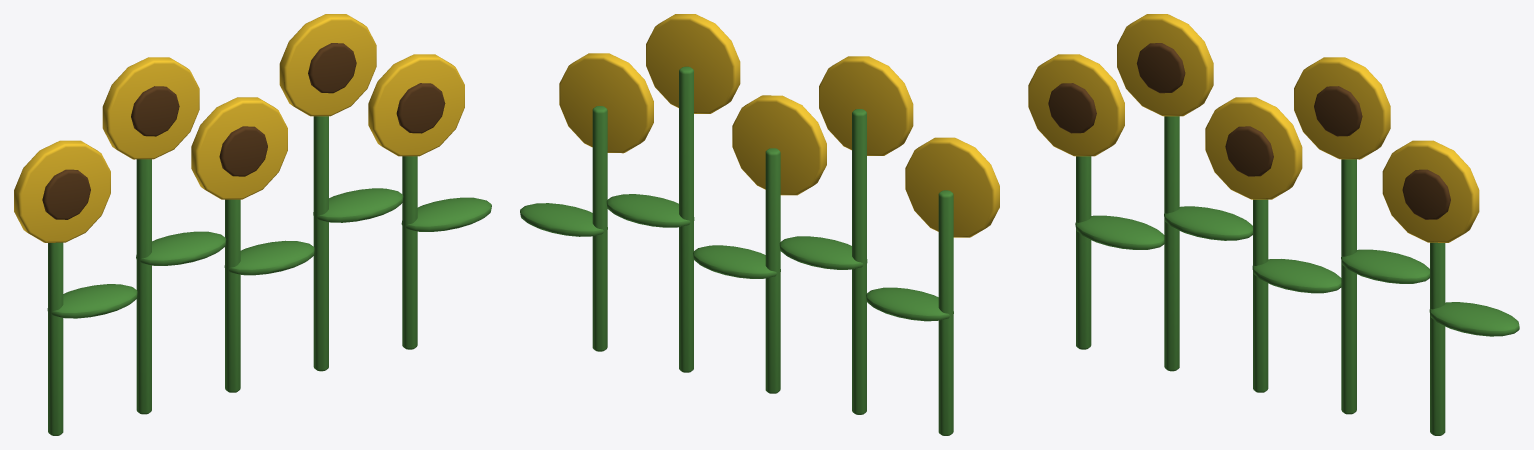
Rendered from veg_girassol.glb.
The picture shows the model from 3 angles, left to right: view 1: azimuth 30°, elevation 25°; view 2: azimuth 150°, elevation 25°; view 3: azimuth 330°, elevation 25°; orthographic projection. The views are drawn at different scales.
Visible parts, largest first — view 1: veg_girassol; view 2: veg_girassol; view 3: veg_girassol.
Part boxes in pixels (x1,y1,x2,y2): veg_girassol: (14,14,491,435); veg_girassol: (520,14,999,435); veg_girassol: (1028,14,1519,435).
Bounding box in the file's own units: 3.25 × 2.32 × 0.32.
